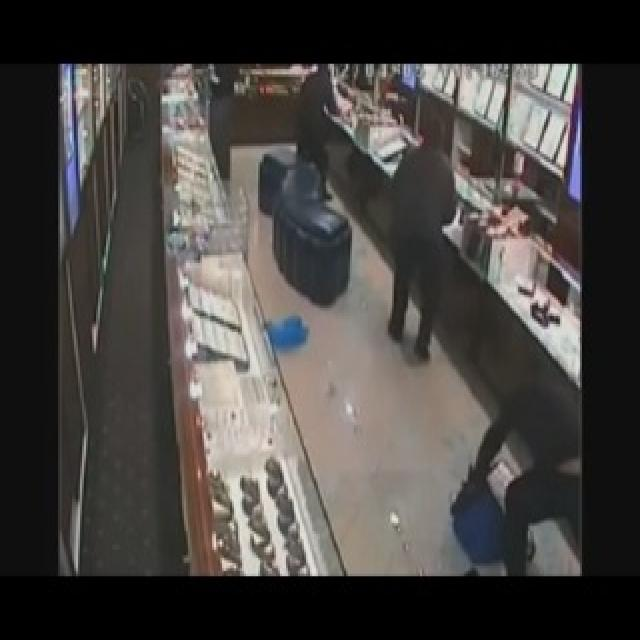thief: (465, 365, 580, 577), (383, 115, 461, 365), (291, 65, 341, 200), (201, 65, 246, 192)
